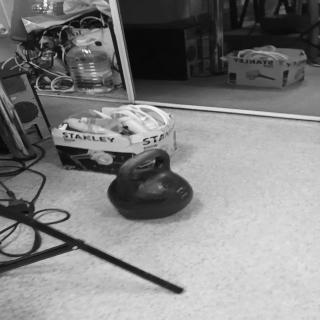girya: (107, 149, 197, 219)
